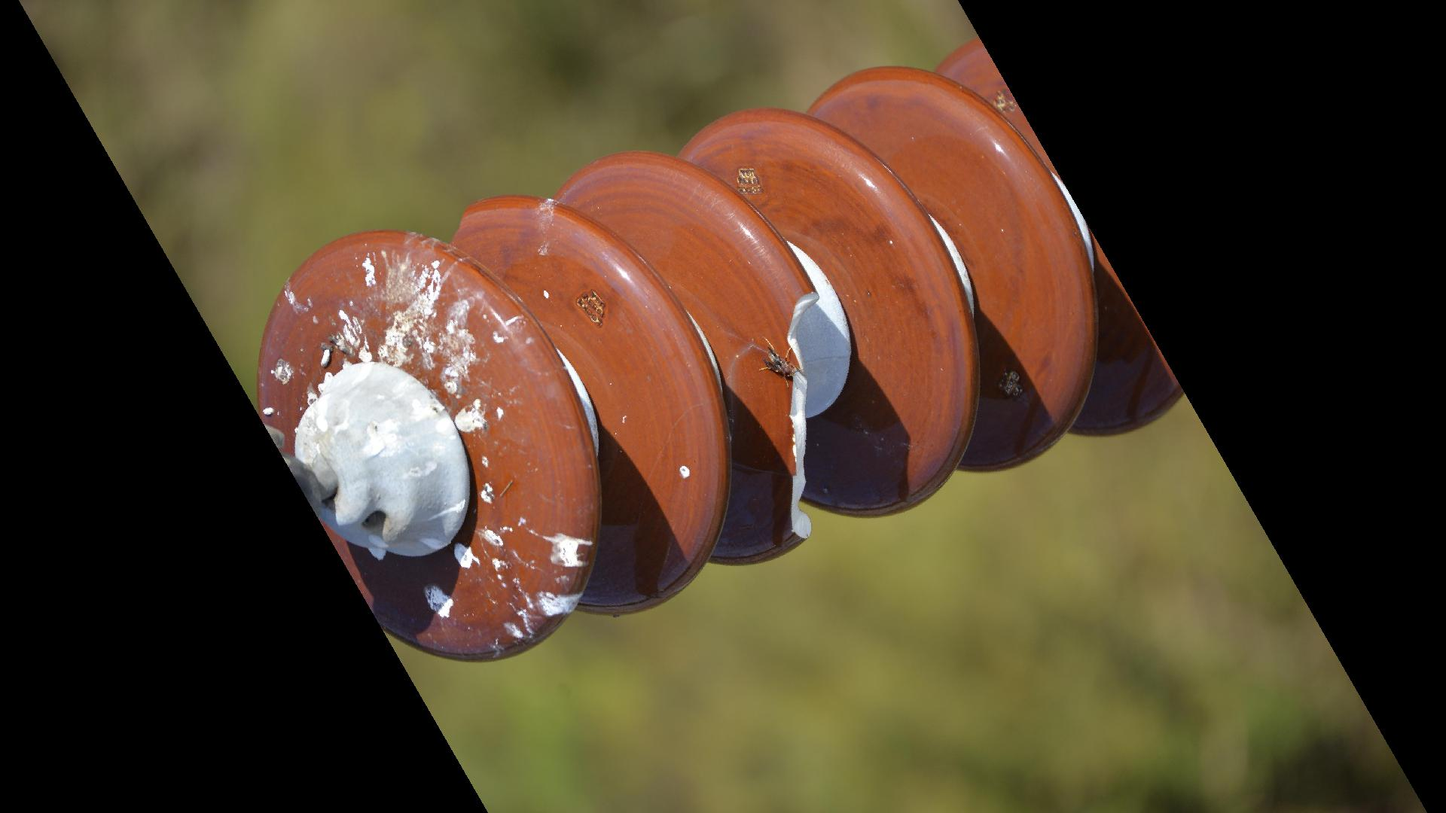insulator: (244, 38, 1189, 671)
insulator_breakage: (768, 282, 839, 556)
